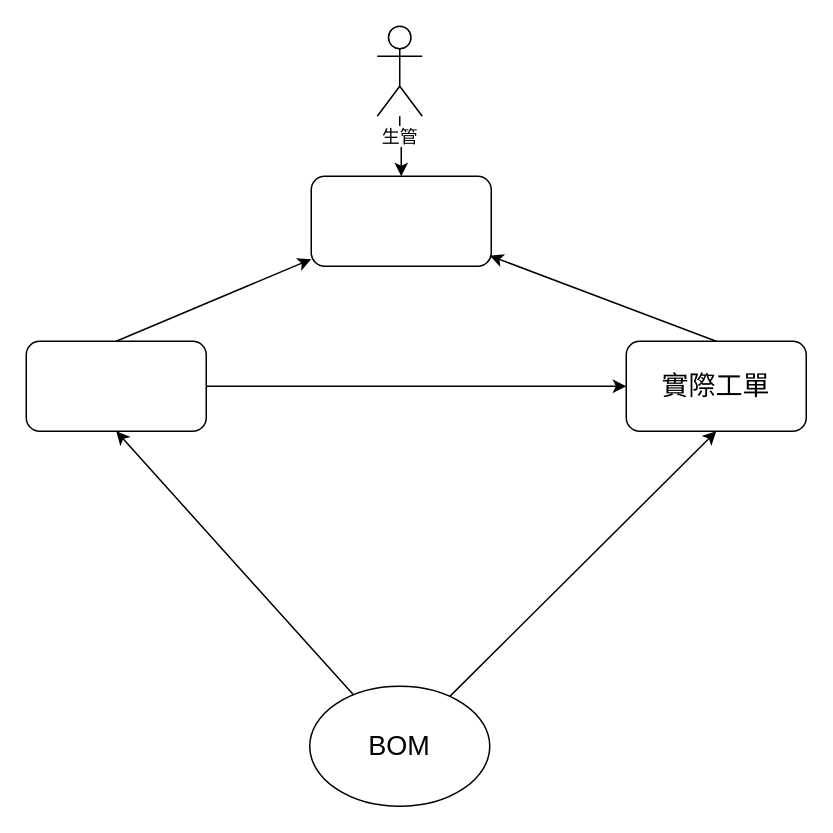
Image size: 833x833. Some labels were removed from this diagram. Each missing label, with the centre of its shape:
"生產計劃" belongs at (400,220).
"預估排程" belongs at (115,385).
